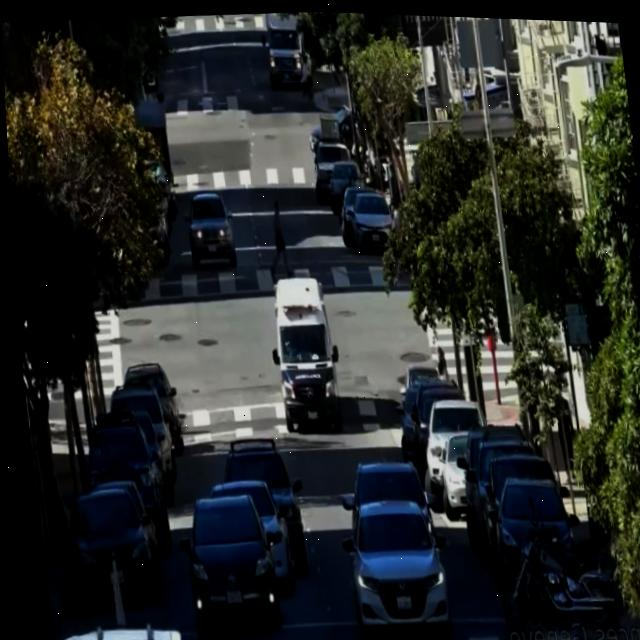emergency: (255, 264, 348, 434)
